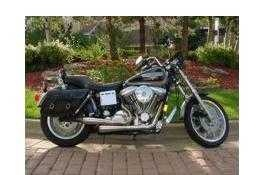motorcycle: (37, 38, 229, 146)
